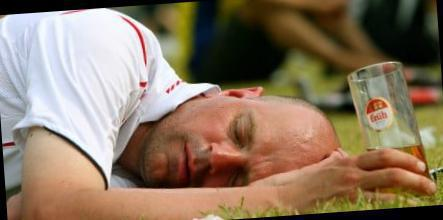Drunk: (148, 101, 329, 188)
